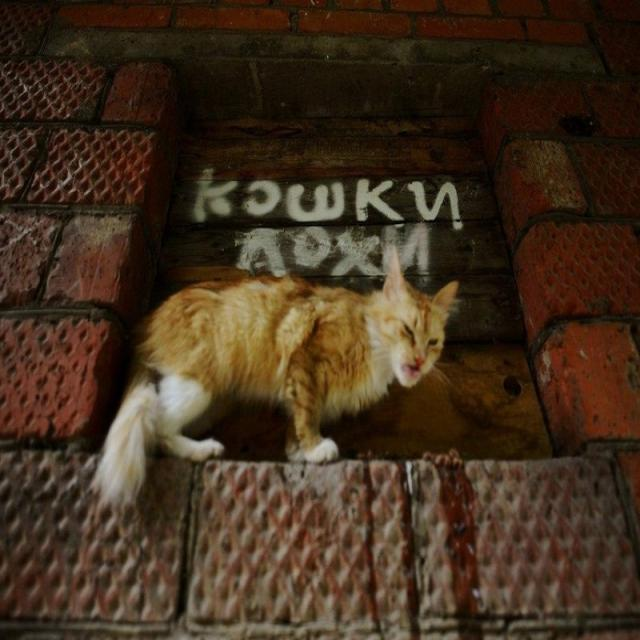cat: (92, 256, 458, 505)
